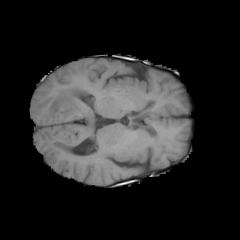glioma: (50, 84, 91, 117)
